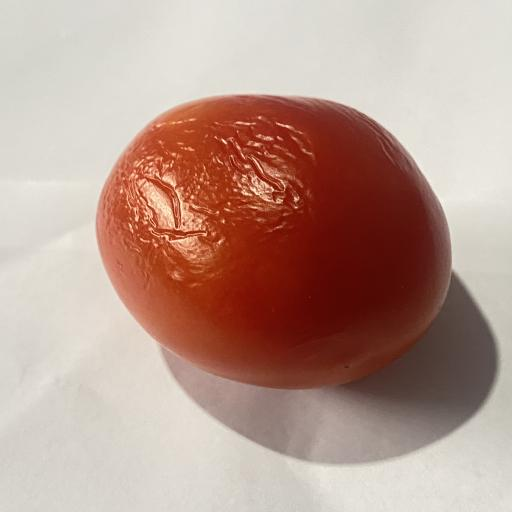spoiled: (96, 95, 451, 388)
